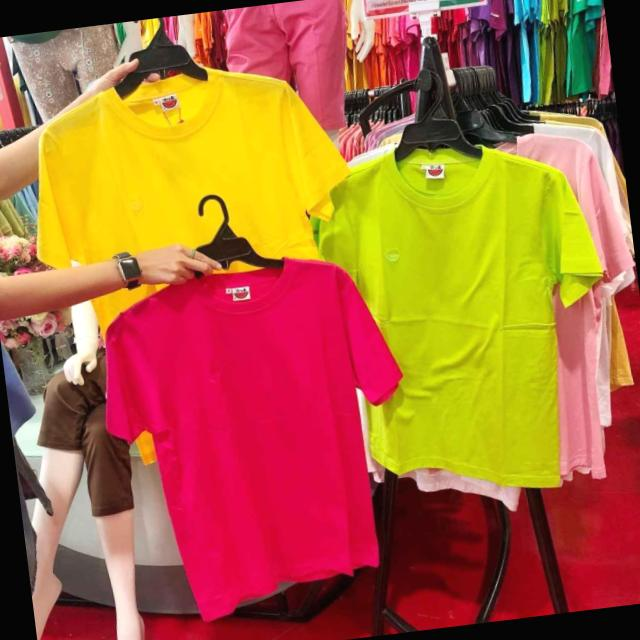Tshirt: (85, 228, 432, 634), (293, 126, 631, 504), (12, 48, 364, 304)
